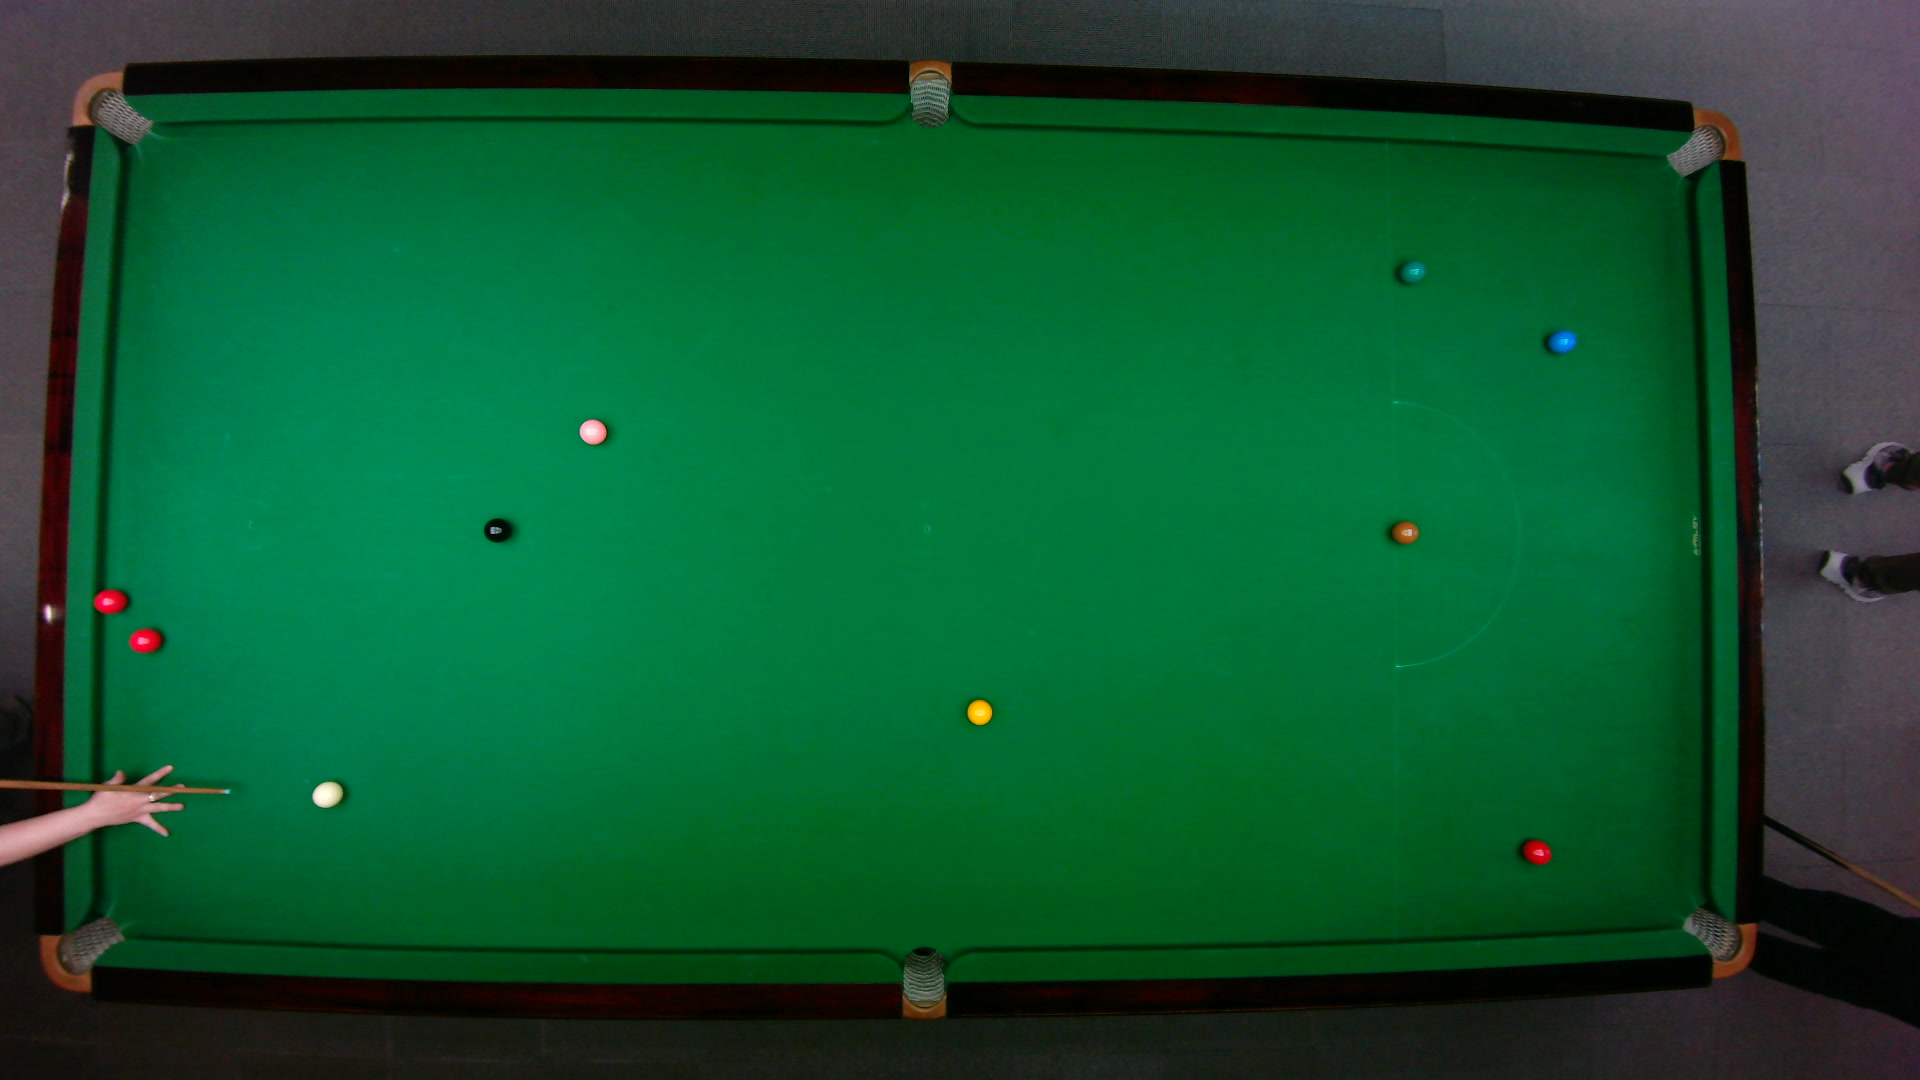bag: (37, 914, 127, 993), (69, 69, 152, 145), (1677, 905, 1756, 978), (1663, 107, 1741, 178), (901, 944, 944, 1021), (909, 57, 949, 128)
black: (481, 516, 512, 542)
blue: (1545, 327, 1577, 353)
brown: (1389, 520, 1419, 545)
cue: (0, 775, 231, 795)
green: (1396, 258, 1425, 284)
pink: (576, 415, 608, 446)
red: (91, 587, 128, 613), (127, 626, 164, 653), (1519, 837, 1553, 865)
white: (310, 779, 344, 808)
yellow: (964, 696, 993, 727)
zone: (1390, 400, 1520, 669)
